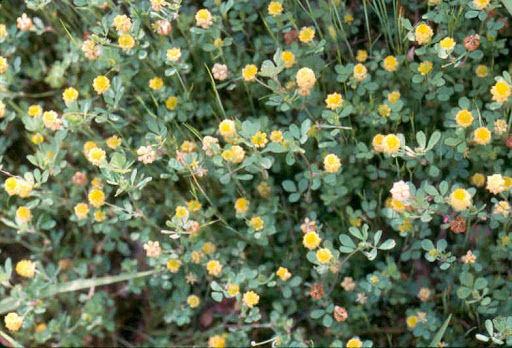clover: (8, 4, 505, 340)
